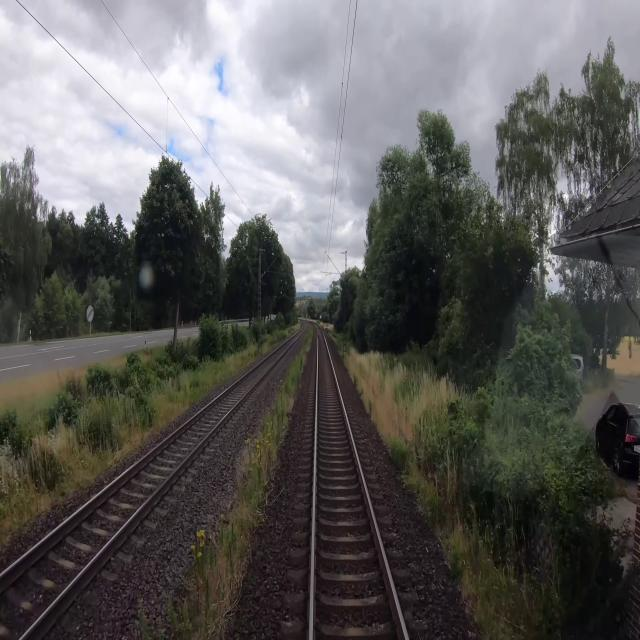Plant: (167, 325, 314, 639)
